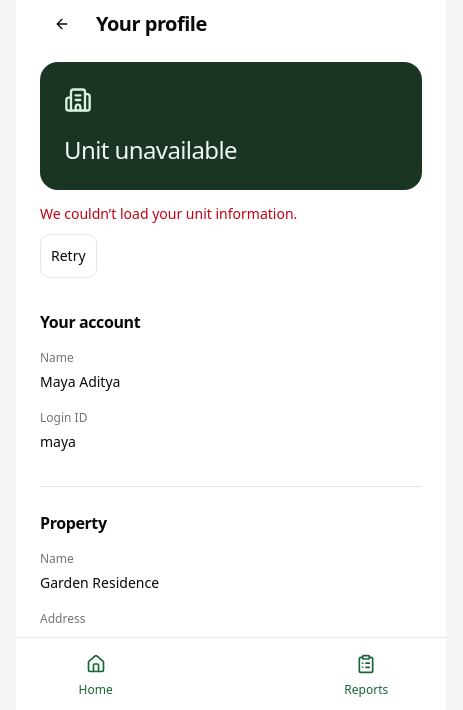
Test: keeps an initial unit error distinct and retries that section
Expected: the message shows "couldn’t load", [40,204,297,223]
Expected: the text "maya" is shown, [40,432,76,451]
Click the button "Retry" at [68, 256], box [40,234,97,278]
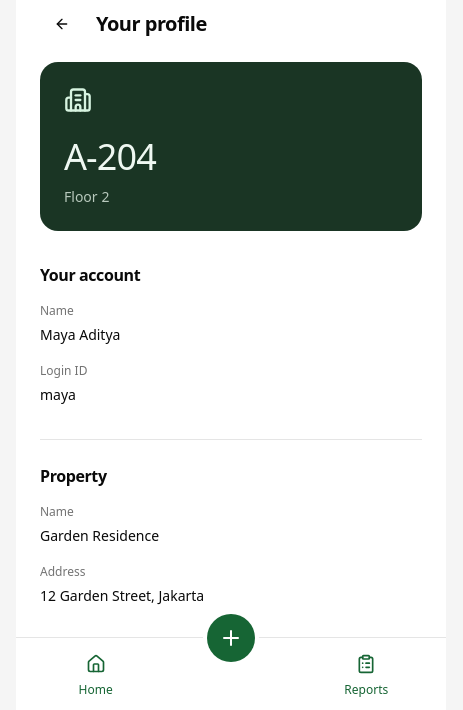
Result: the message "We couldn’t load your unit information." is gone
Result: the text "A-204" is shown at [64,132,156,181]
